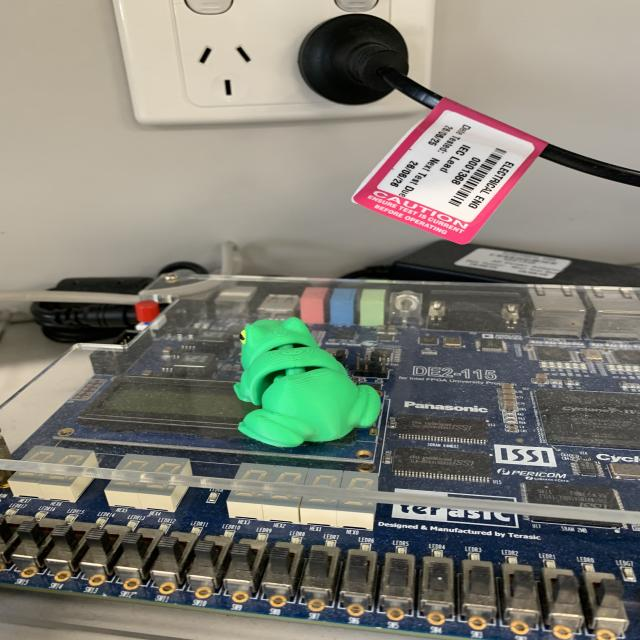frog: (210, 318, 396, 452)
